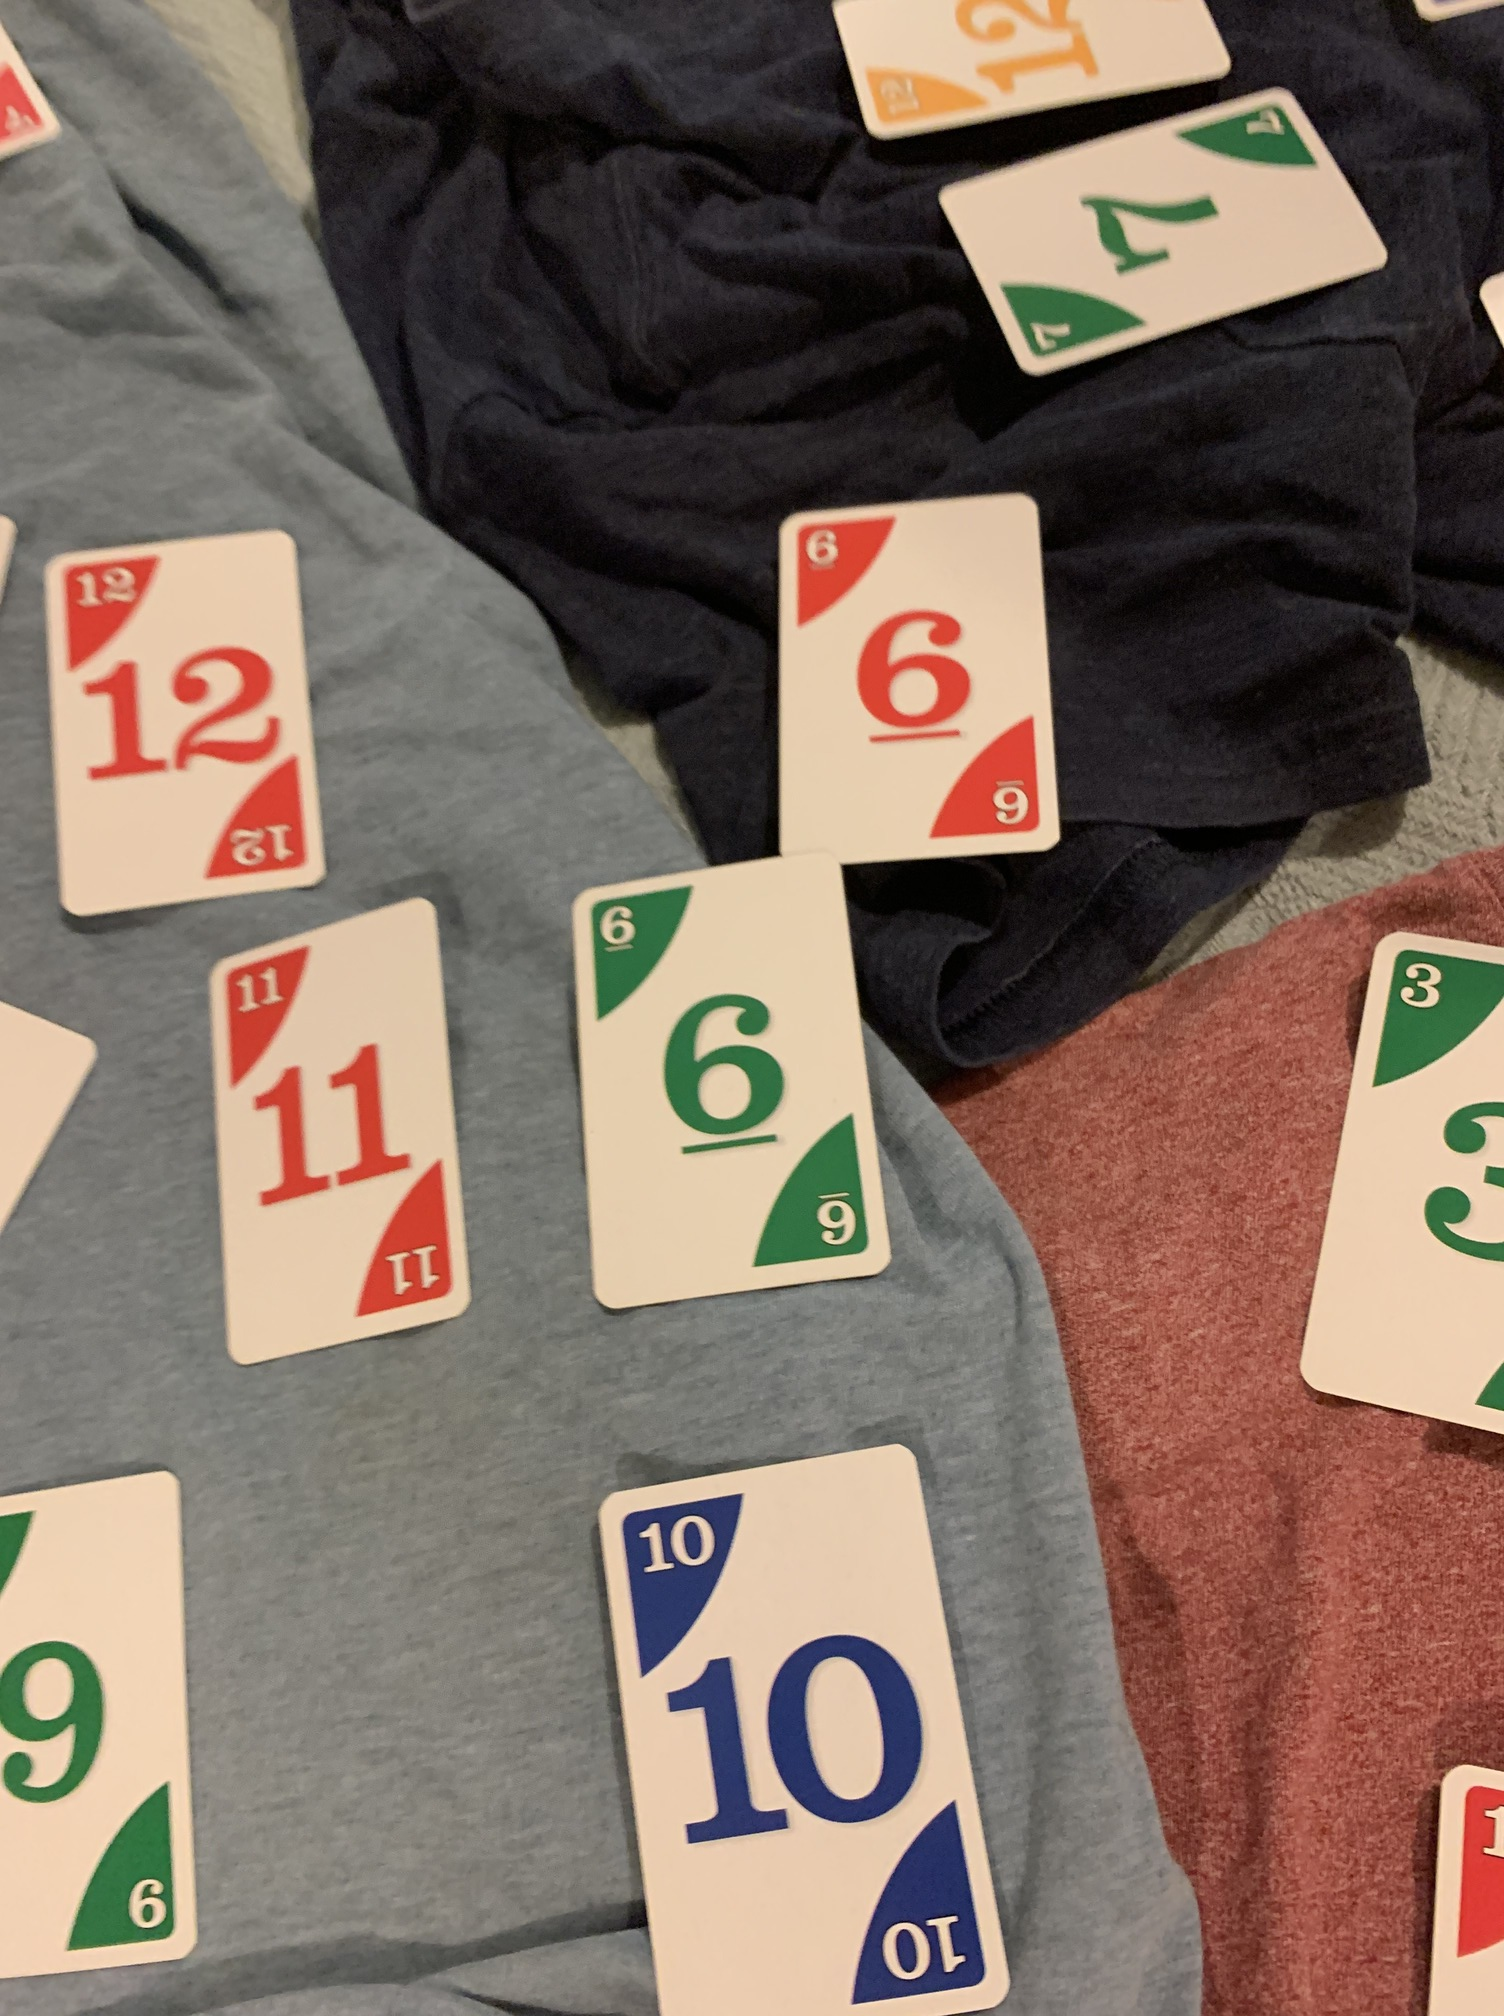eleven: (185, 893, 476, 1376)
nine: (2, 1468, 224, 1981)
seven: (921, 77, 1404, 390)
six: (562, 848, 897, 1322), (755, 483, 1074, 886)
ten: (589, 1435, 1022, 2016)
twelve: (24, 526, 327, 931)
